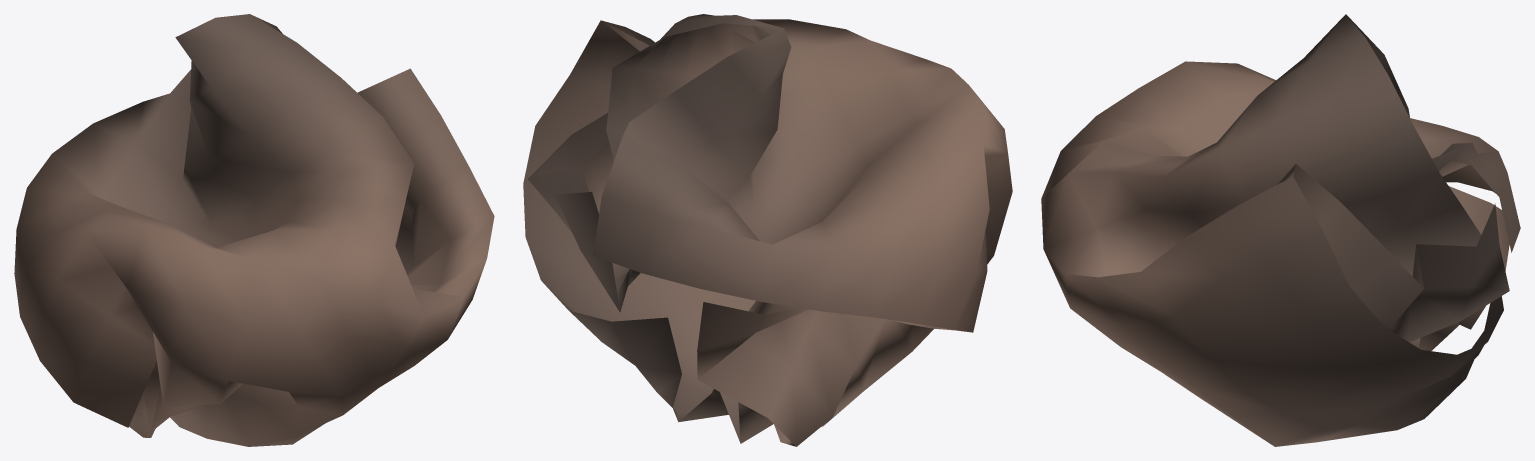
Rendered from PaperBallCrumble_Type1.fbx.
3 views of the same model, side by side, from view 1: azimuth 30°, elevation 25°; view 2: azimuth 150°, elevation 25°; view 3: azimuth 270°, elevation 25° (orthographic).
Visible parts, largest first — view 1: PaperBallCrumble_Type1; view 2: PaperBallCrumble_Type1; view 3: PaperBallCrumble_Type1.
Part boxes in pixels (<box>): PaperBallCrumble_Type1: <box>14,14,494,446</box>; PaperBallCrumble_Type1: <box>523,14,1012,446</box>; PaperBallCrumble_Type1: <box>1041,14,1520,446</box>.
Bounding box in the file's own units: 39.57 × 37.24 × 40.85.
